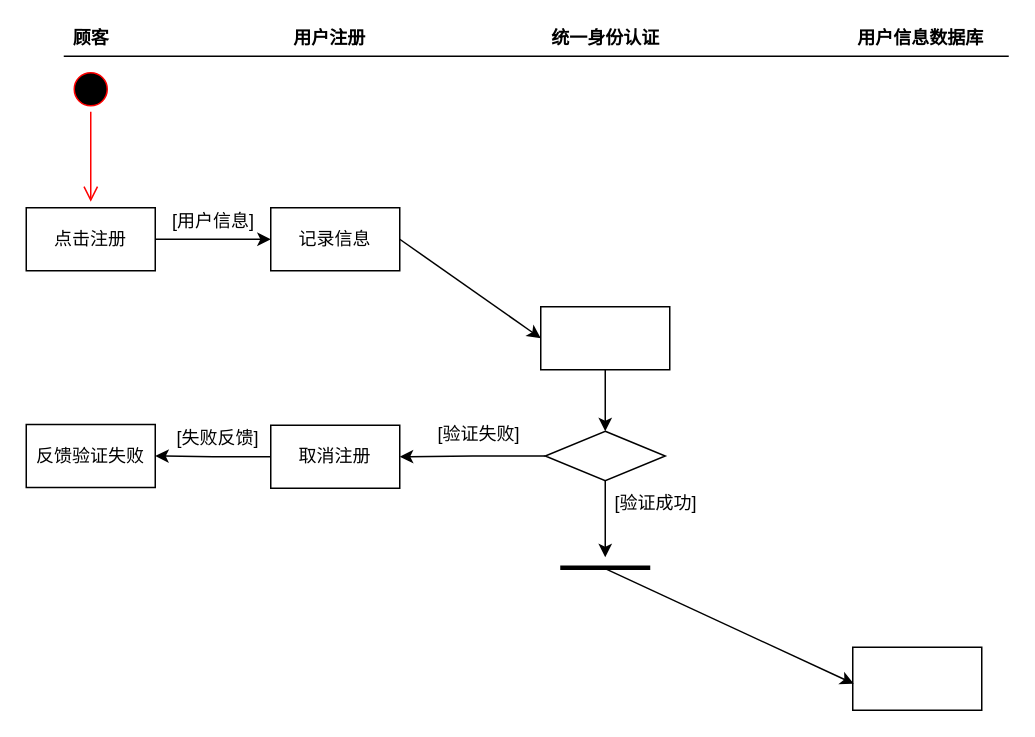
The diagram is 1035 pixels wide and 737 high, and some of its shapes have lost their labels. Each missing label, with the centre of its shape:
"记录用户信息" belongs at (916,678).
"验证身份" belongs at (604,337).
